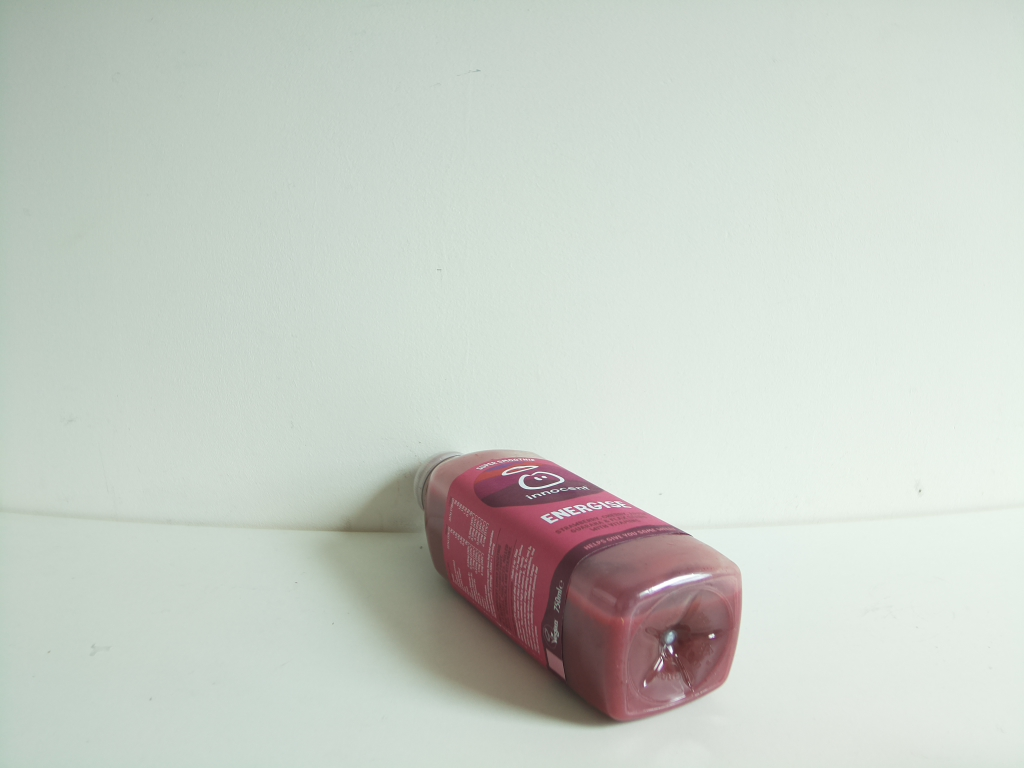juice: (412, 447, 745, 728)
